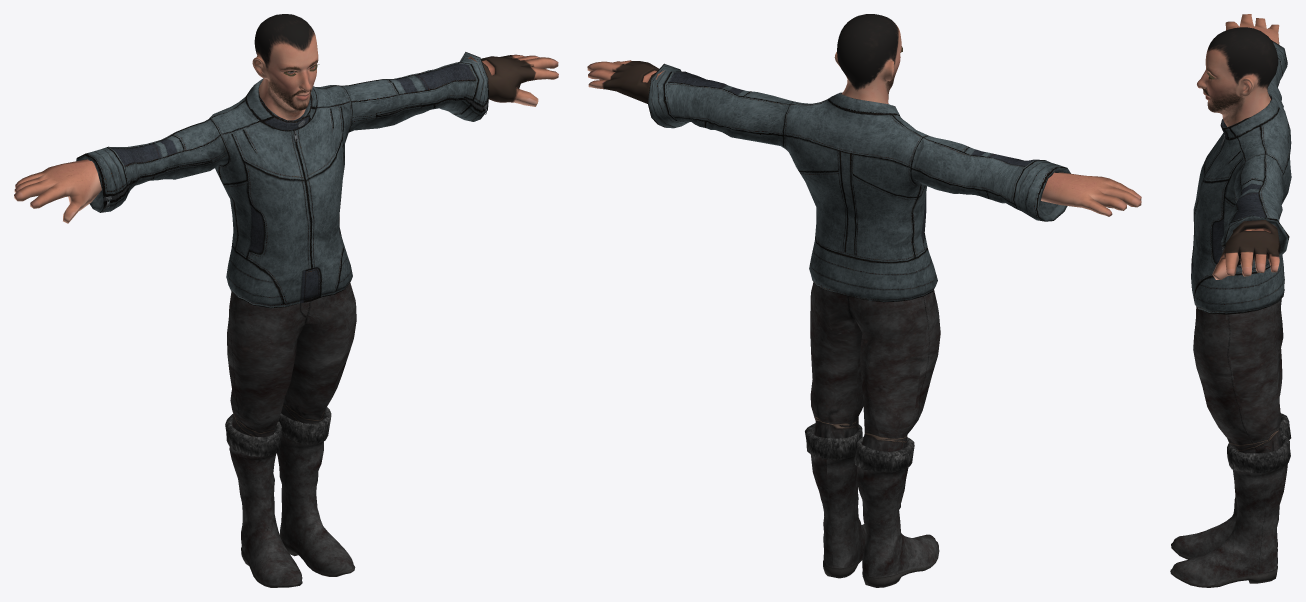
File: male3.obj
The picture shows the model from 3 angles, left to right: view 1: azimuth 30°, elevation 25°; view 2: azimuth 150°, elevation 25°; view 3: azimuth 270°, elevation 25°; orthographic projection. The views are drawn at different scales.
Parts seen in each view (by area): view 1: Tops, Bottoms, Shoes, Body; view 2: Tops, Bottoms, Shoes, Body; view 3: Tops, Bottoms, Shoes, Body.
Boxes of the visible parts, x1,y1,x2,y2 form: Tops: [76, 52, 488, 308]; Bottoms: [227, 283, 356, 437]; Shoes: [225, 407, 355, 587]; Body: [14, 14, 558, 223]; Tops: [647, 63, 1070, 302]; Bottoms: [810, 282, 940, 451]; Shoes: [805, 423, 939, 587]; Body: [587, 14, 1141, 216]; Tops: [1191, 40, 1291, 314]; Bottoms: [1193, 298, 1283, 453]; Shoes: [1170, 413, 1291, 587]; Body: [1197, 14, 1280, 279].
Size of the model in its own units: 188 by 180 by 36.86.
4 materials, 4 textured.
